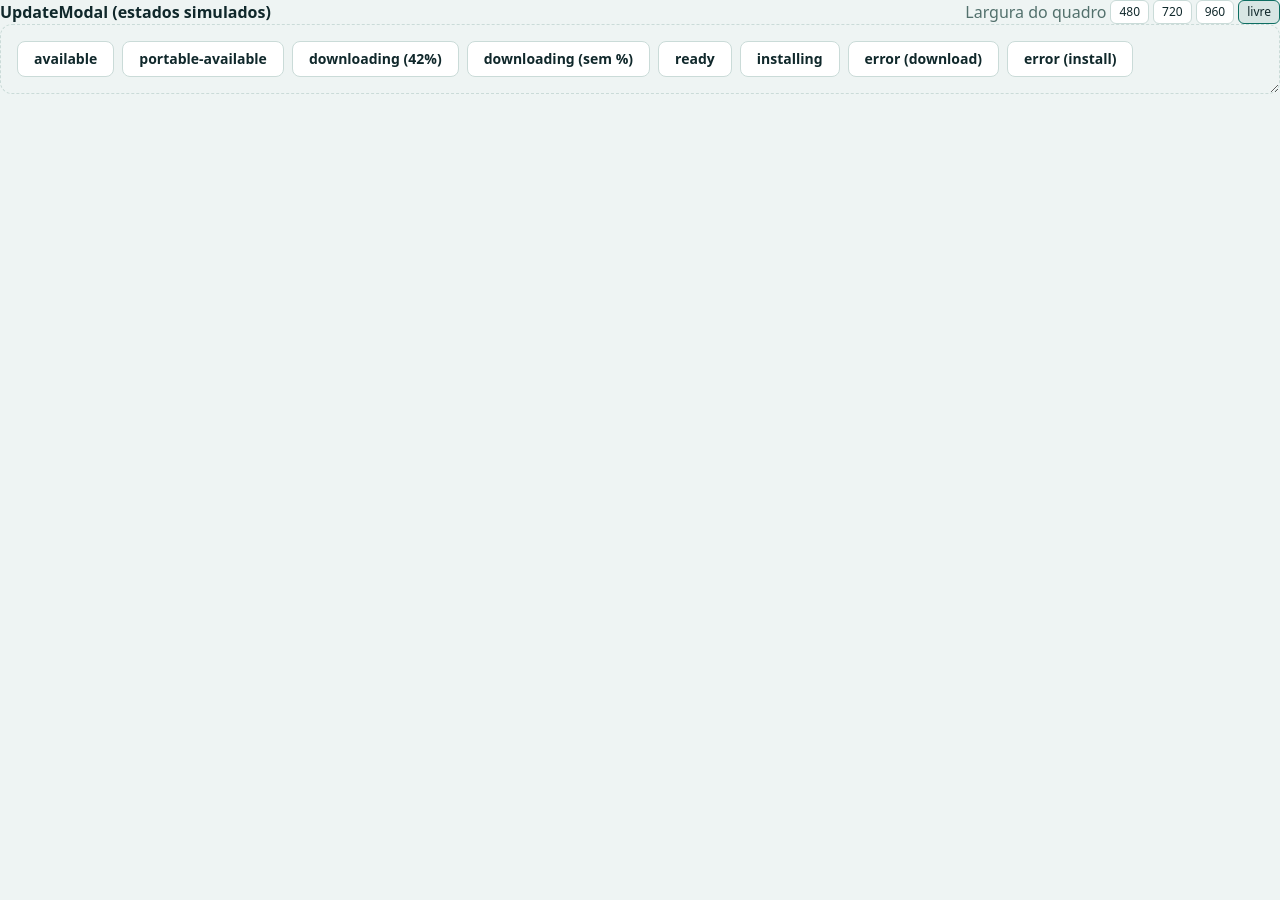
Test: UpdateSection do guia /design › "Not now" fecha; esconder o download deixa o botão de reabrir
Click the button "available".
click(66, 59)  # box [17,41,114,77]
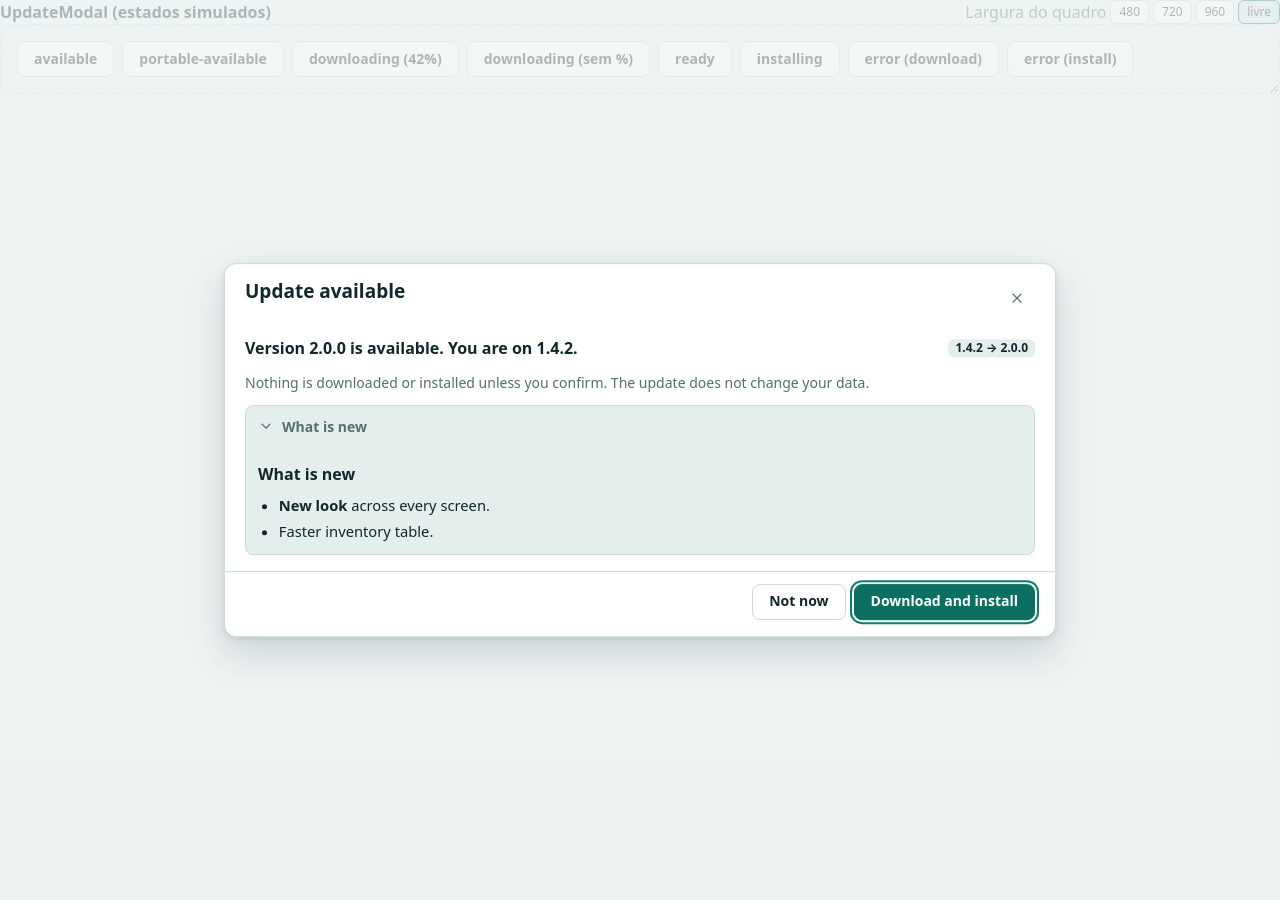
Click the button "Not now".
click(799, 602)  # box [752,584,846,620]
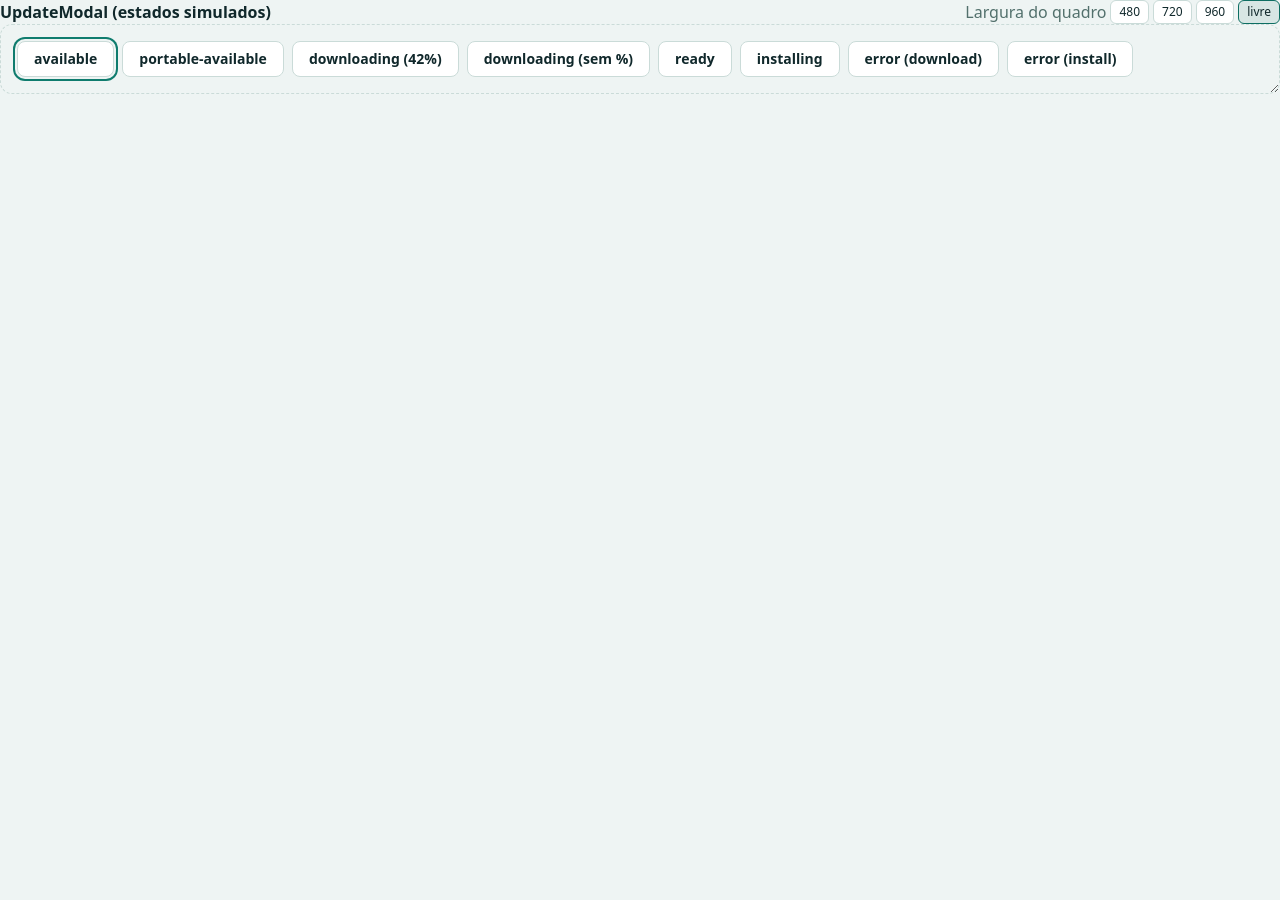
expect the dialog is gone: met
Click the button "downloading (42%)".
click(375, 59)  # box [292,41,459,77]
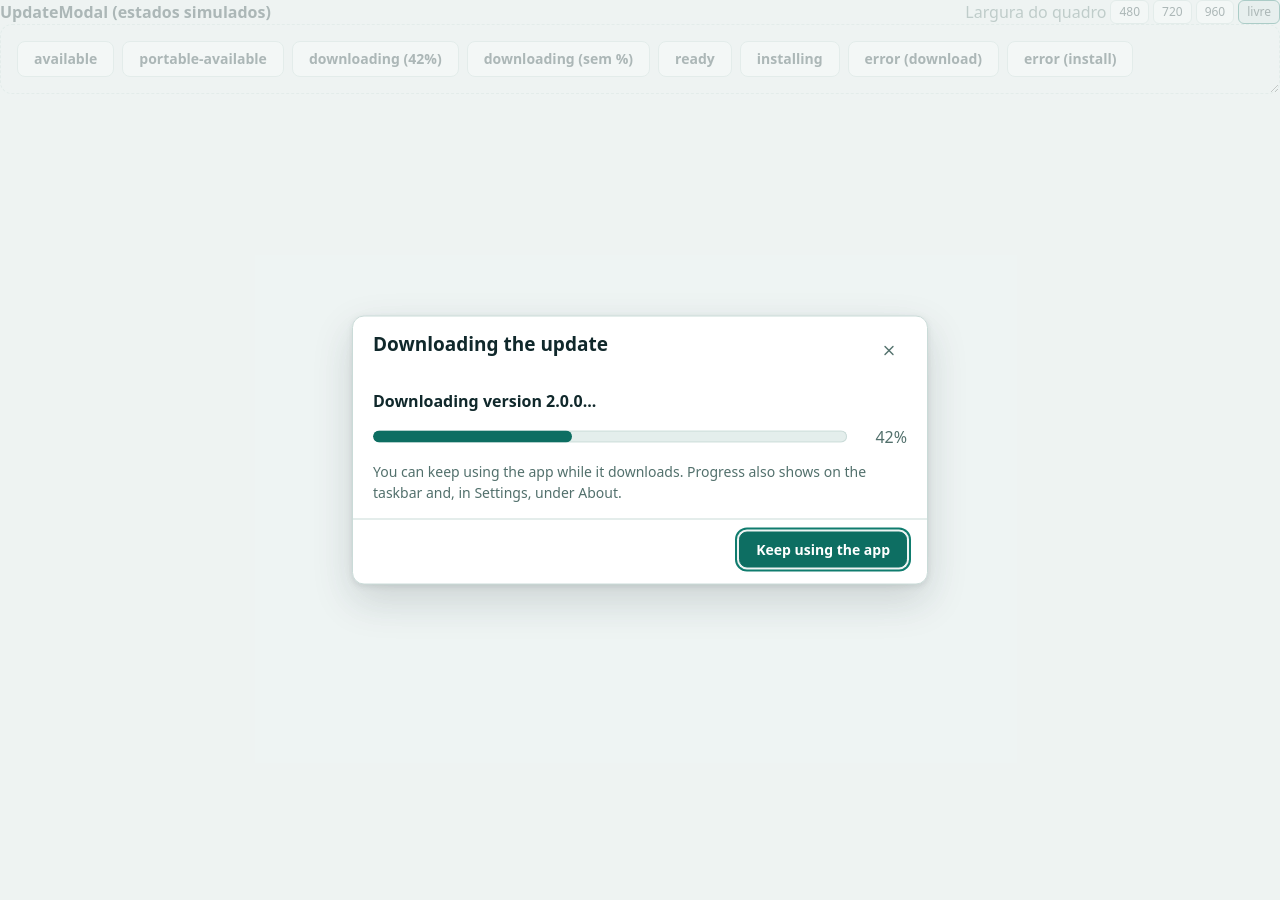
Click the button "Keep using the app".
click(823, 550)  # box [739,532,907,568]
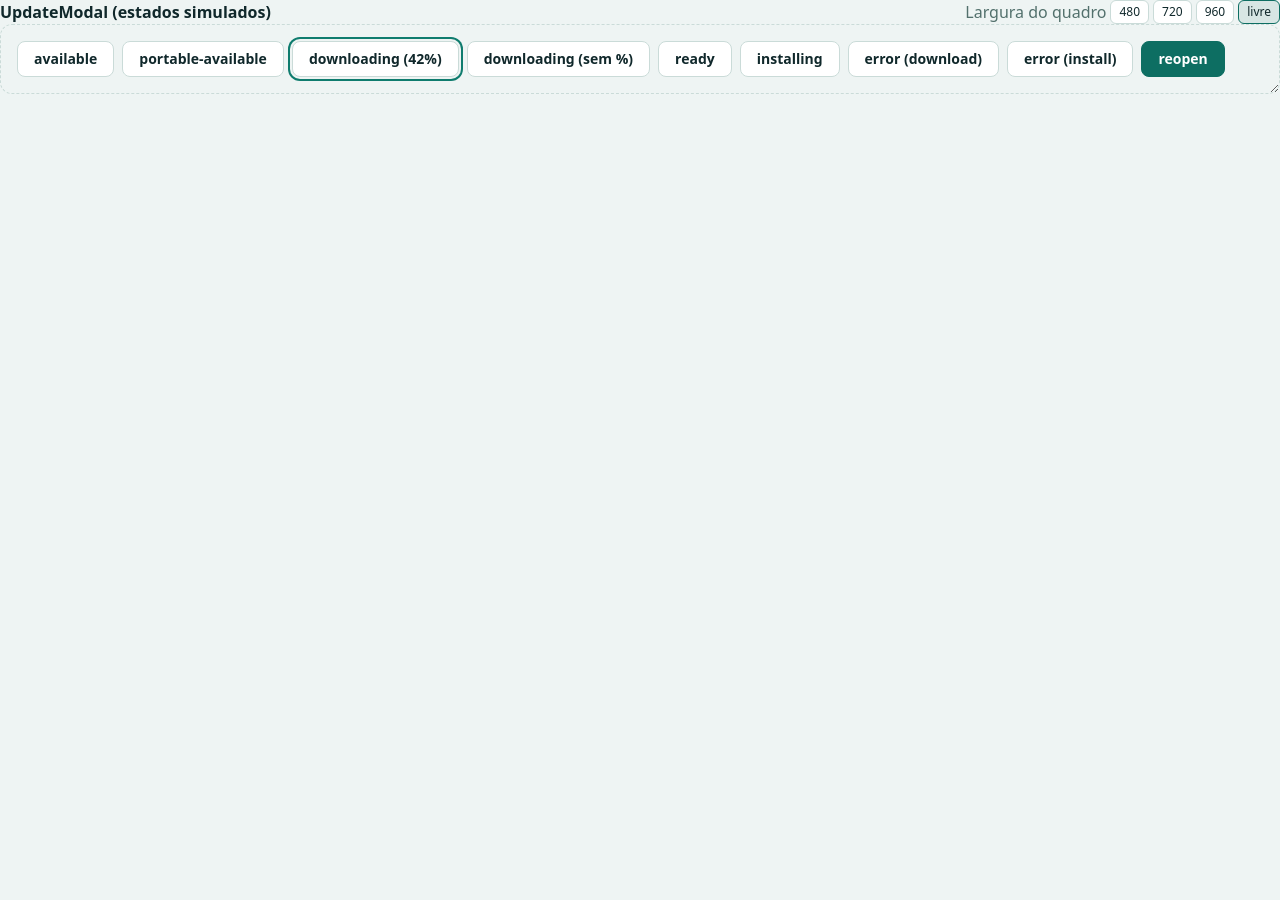
expect the dialog is gone: met
Click the button "reopen".
click(1183, 59)  # box [1142,41,1225,77]
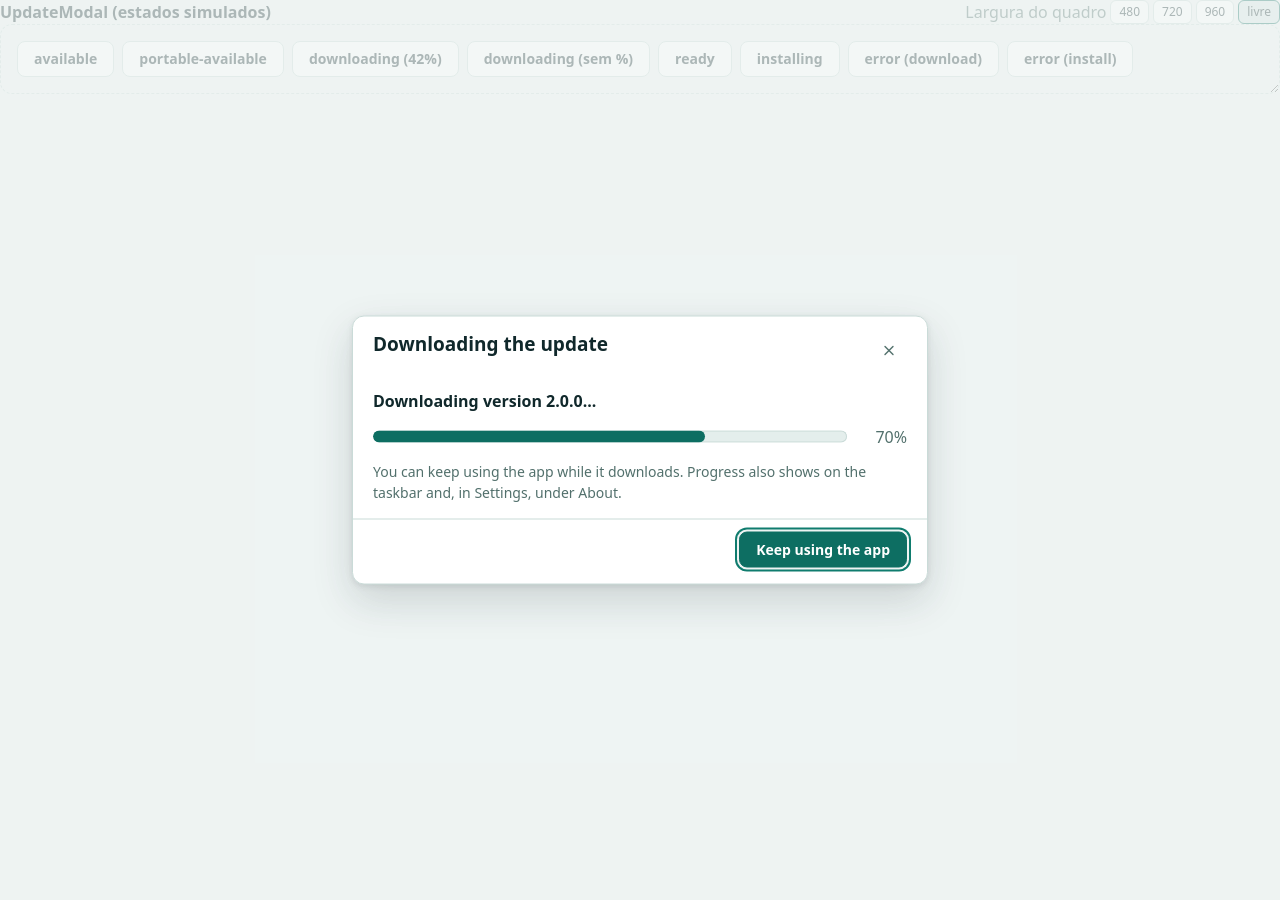
expect the dialog "Downloading the update" is shown: met, box [352,316,928,584]
